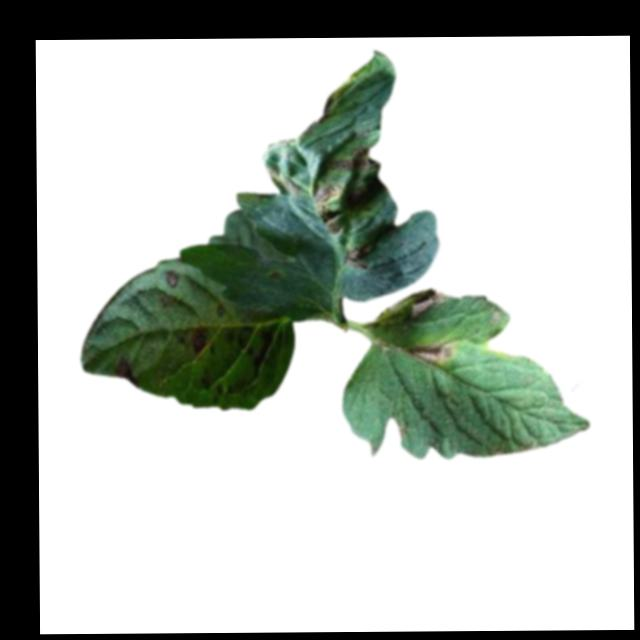Early_blight: (313, 184, 344, 234), (332, 145, 380, 173), (411, 338, 454, 366), (407, 287, 446, 317), (339, 247, 373, 269), (188, 323, 208, 355), (116, 354, 136, 384), (163, 271, 181, 289)
